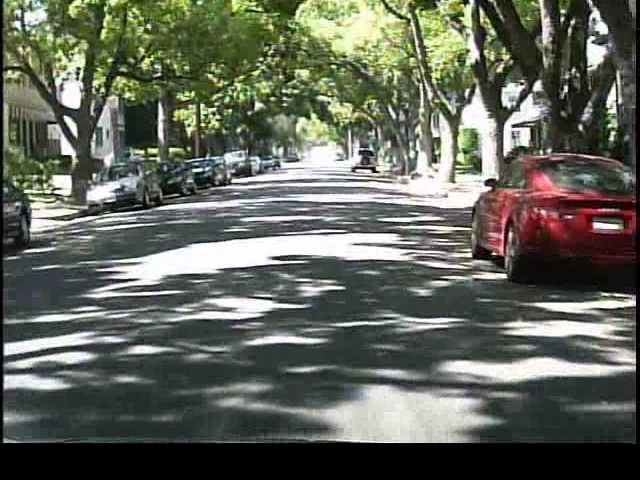person: (103, 147, 126, 198)
